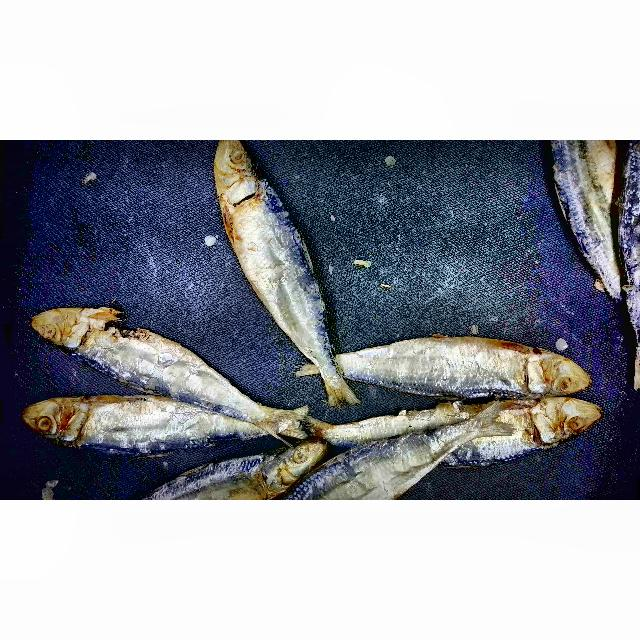Grade_B_Tail: (307, 425, 464, 500)
Grade_C_Body: (218, 209, 339, 353), (98, 320, 253, 415), (352, 332, 527, 400), (545, 140, 619, 298), (95, 392, 246, 460)
Grade_C_Head: (26, 299, 113, 362), (208, 140, 277, 213), (21, 390, 97, 451), (532, 391, 605, 450), (526, 342, 593, 399), (260, 437, 325, 485)
Grade_C_Tail: (461, 399, 515, 442)
